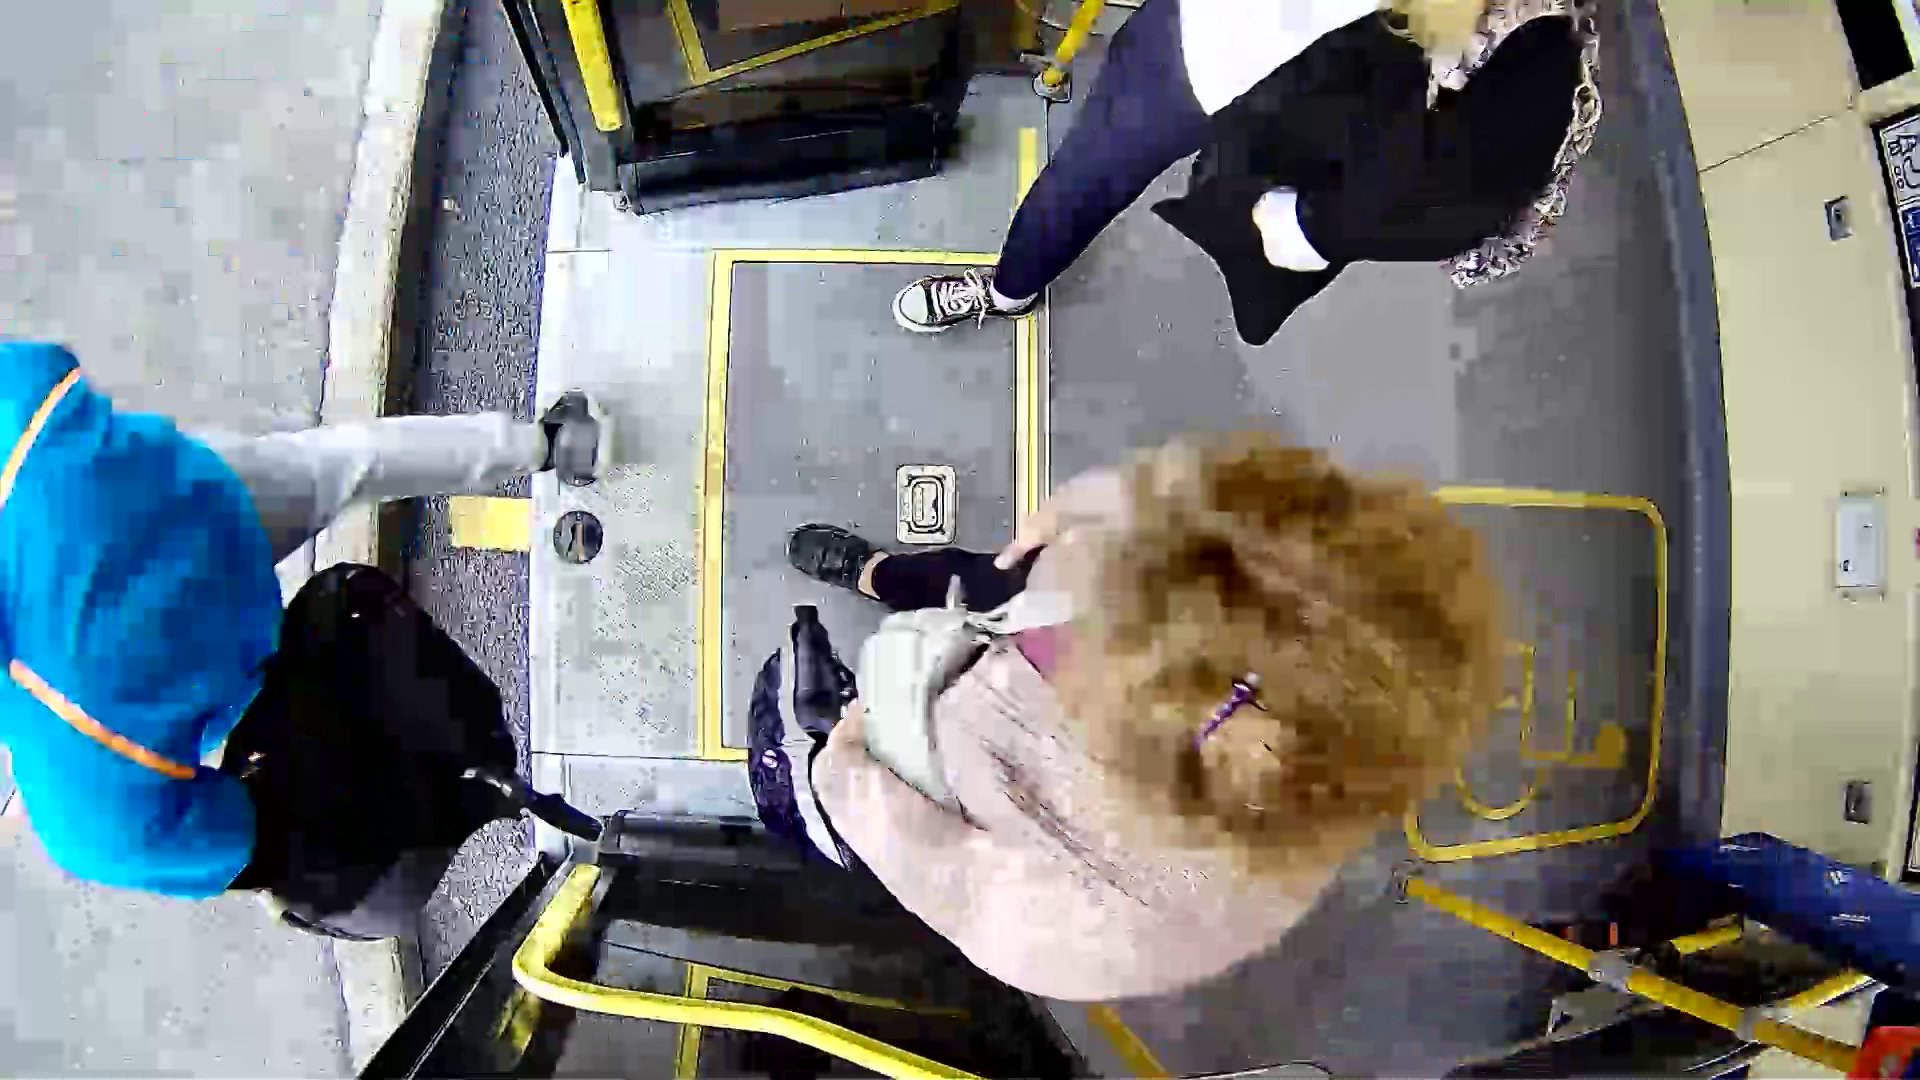person: (732, 444, 1555, 981)
